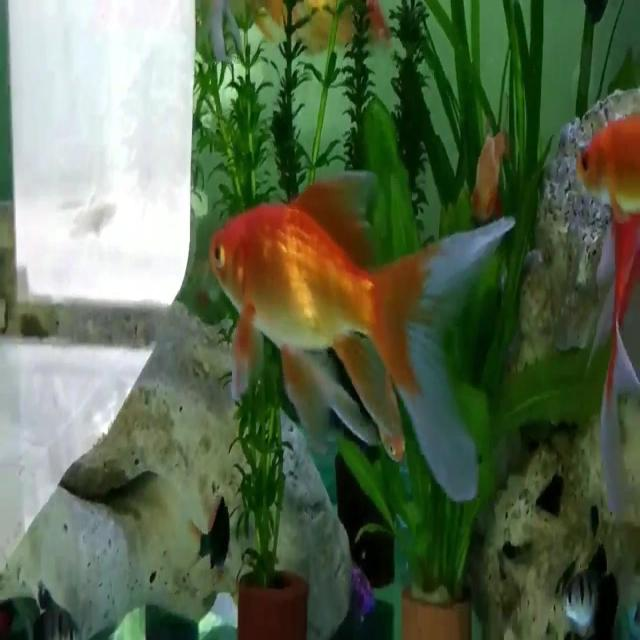GoldFish: (207, 171, 526, 514)
